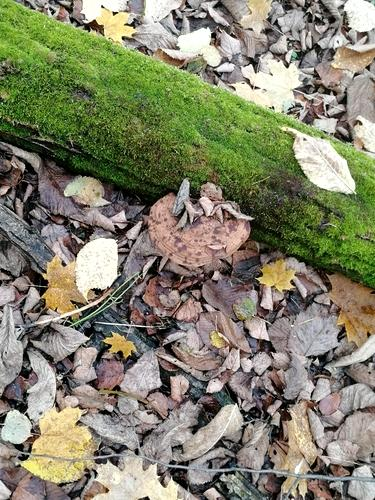Ganoderma - Fruit Body: (146, 187, 255, 272)
